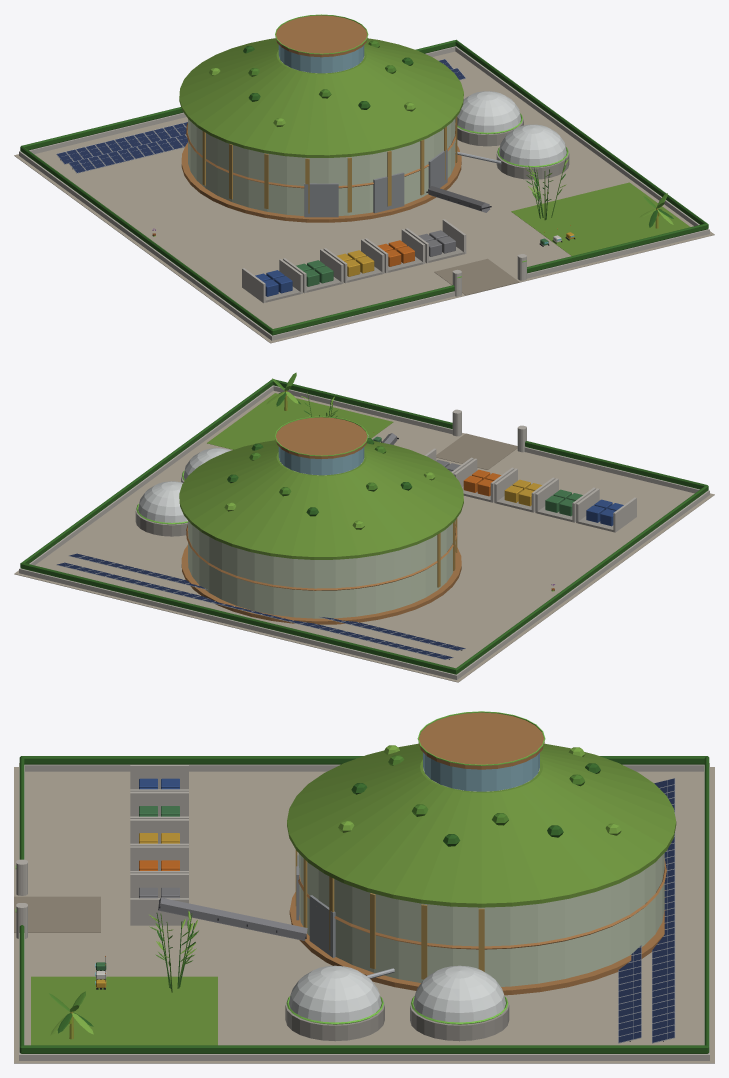
The model's file is waste.glb.
3 renders of one model, top to bottom at view 1: azimuth 30°, elevation 25°; view 2: azimuth 150°, elevation 25°; view 3: azimuth 270°, elevation 25°, orthographic. The views are drawn at different scales.
Visible parts, largest first — view 1: body, windows; view 2: body; view 3: body, windows.
Boxes of the visible parts, left/top/right/bottom form: body: left=14, top=15, right=714, bottom=343; windows: left=275, top=14, right=574, bottom=278; body: left=14, top=372, right=714, bottom=682; body: left=14, top=712, right=714, bottom=1063; windows: left=15, top=711, right=545, bottom=1024.
Size of the model in its own units: 47.9 by 13.55 by 47.9.
